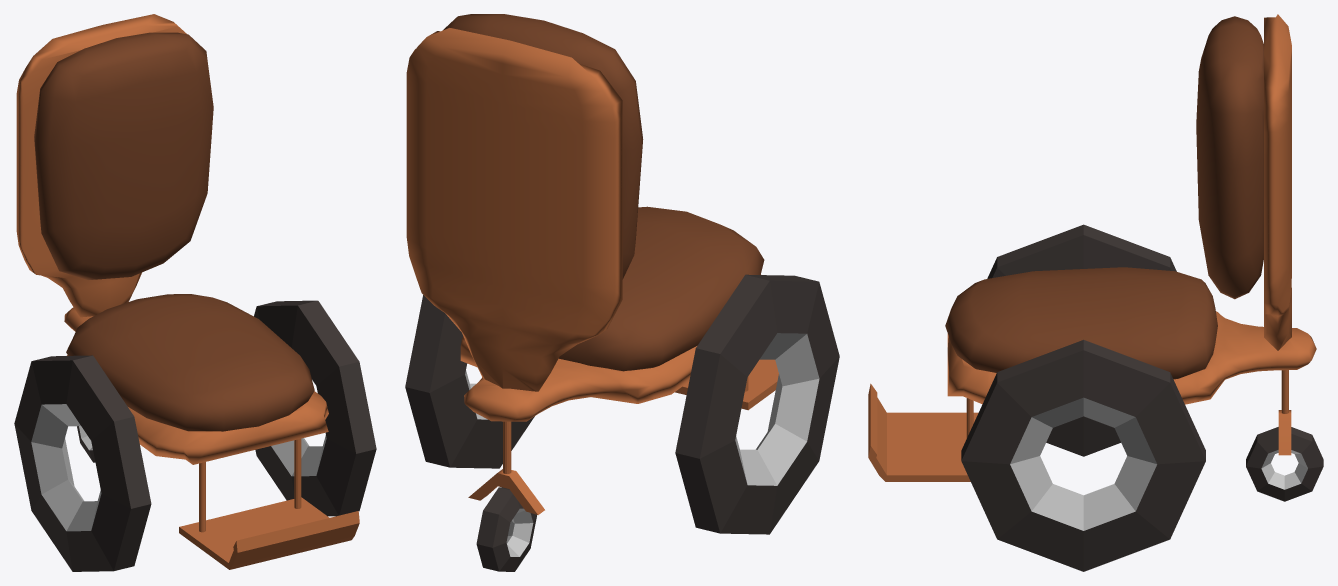
The model's file is chair.fbx.
The picture shows the model from 3 angles, left to right: view 1: azimuth 30°, elevation 25°; view 2: azimuth 150°, elevation 25°; view 3: azimuth 270°, elevation 25°; orthographic projection. The views are drawn at different scales.
Parts seen in each view (by area): view 1: pCube8; view 2: pCube8; view 3: pCube8.
Part boxes in pixels (x1,y1,x2,y2): pCube8: (14,14,376,571); pCube8: (405,14,839,571); pCube8: (868,14,1323,571).
Bounding box in the file's own units: 1.79 × 2.97 × 2.6.
